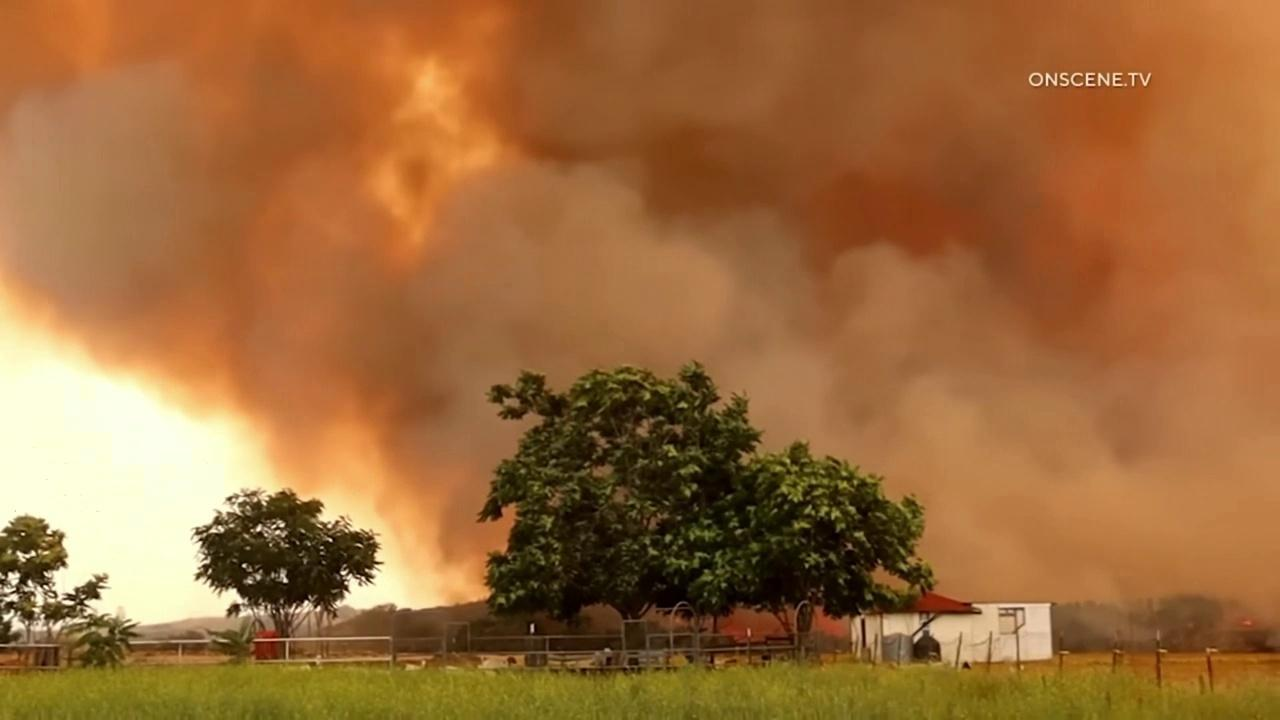fire: (1241, 620, 1253, 625)
smoke: (0, 0, 1280, 651)
